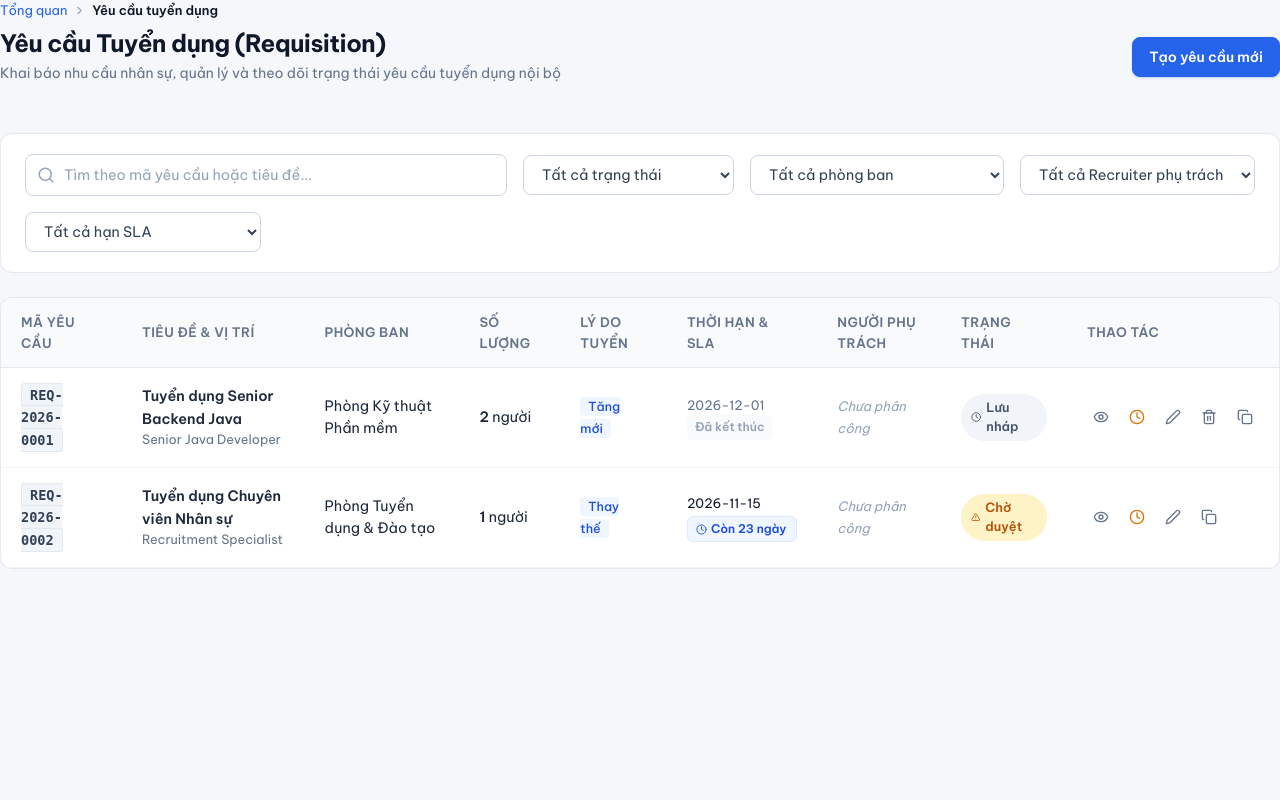
Test: RequisitionManagementPage (S2-10 - Yêu cầu Tuyển dụng) › opens create modal when clicking "Tạo yêu cầu mới" and validates required fields
Expected: the text "REQ-2026-0001" is shown, [21,383,63,452]
Click the button "Tạo yêu cầu mới": (1206, 57) [1132,37,1279,77]
(page scrolled)
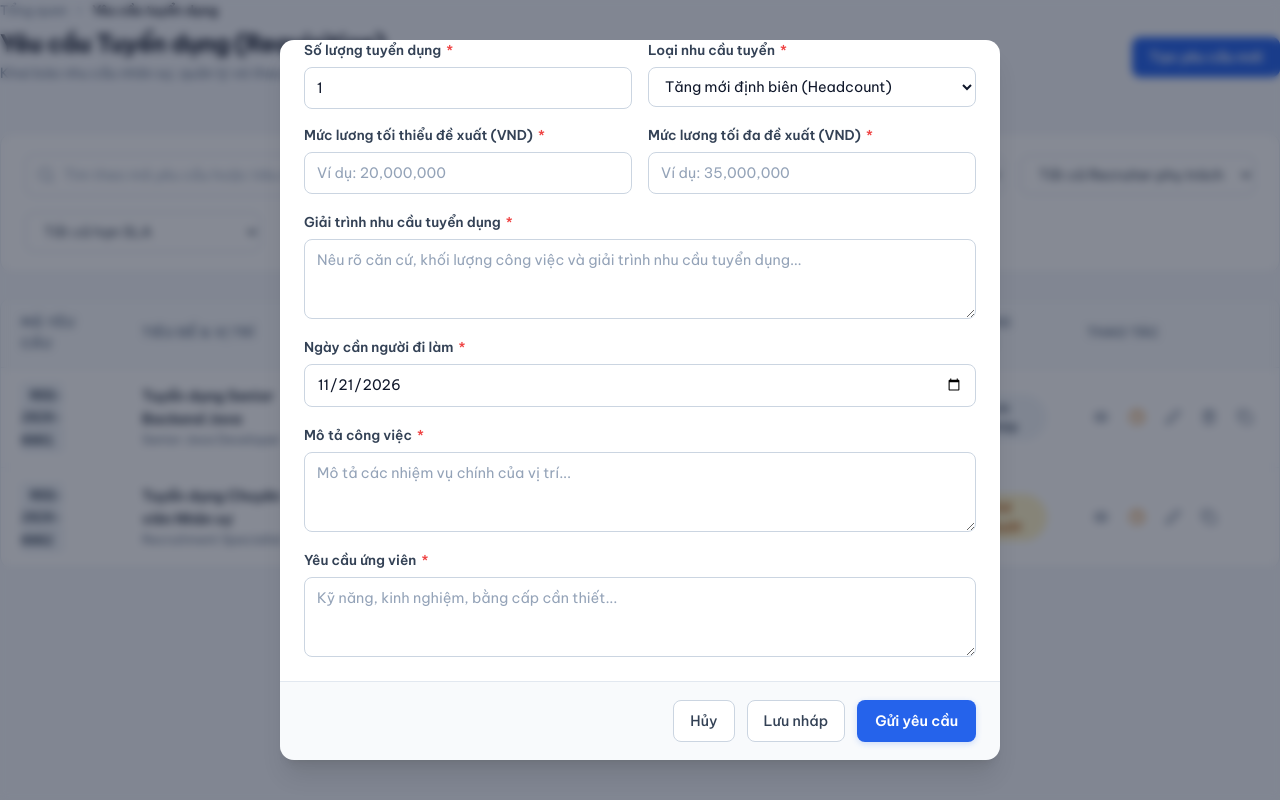
Click "Gửi yêu cầu" with empty title
Click the button "Gửi yêu cầu": (917, 721) [857,700,976,742]
(page scrolled)
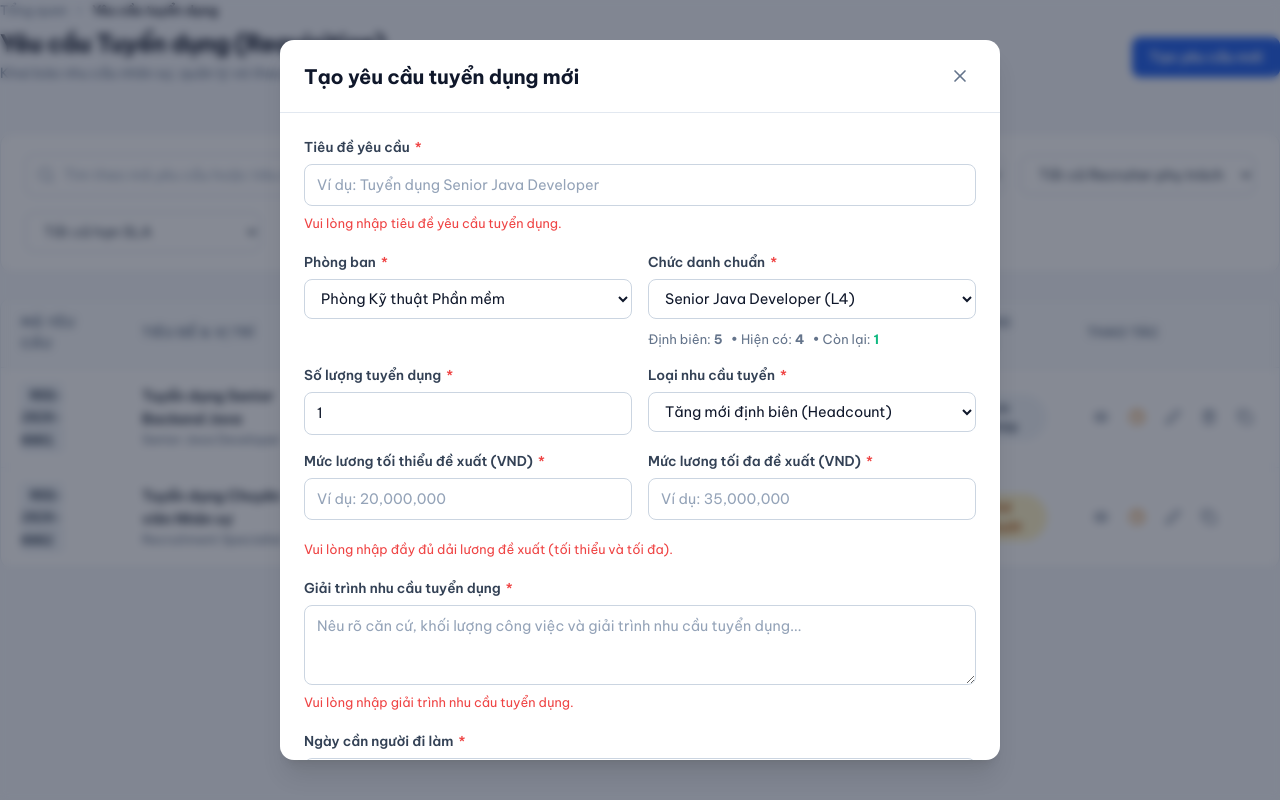
Expected: the text "Vui lòng nhập tiêu đề yêu cầu tuyển dụng." is shown, [304,215,562,231]
